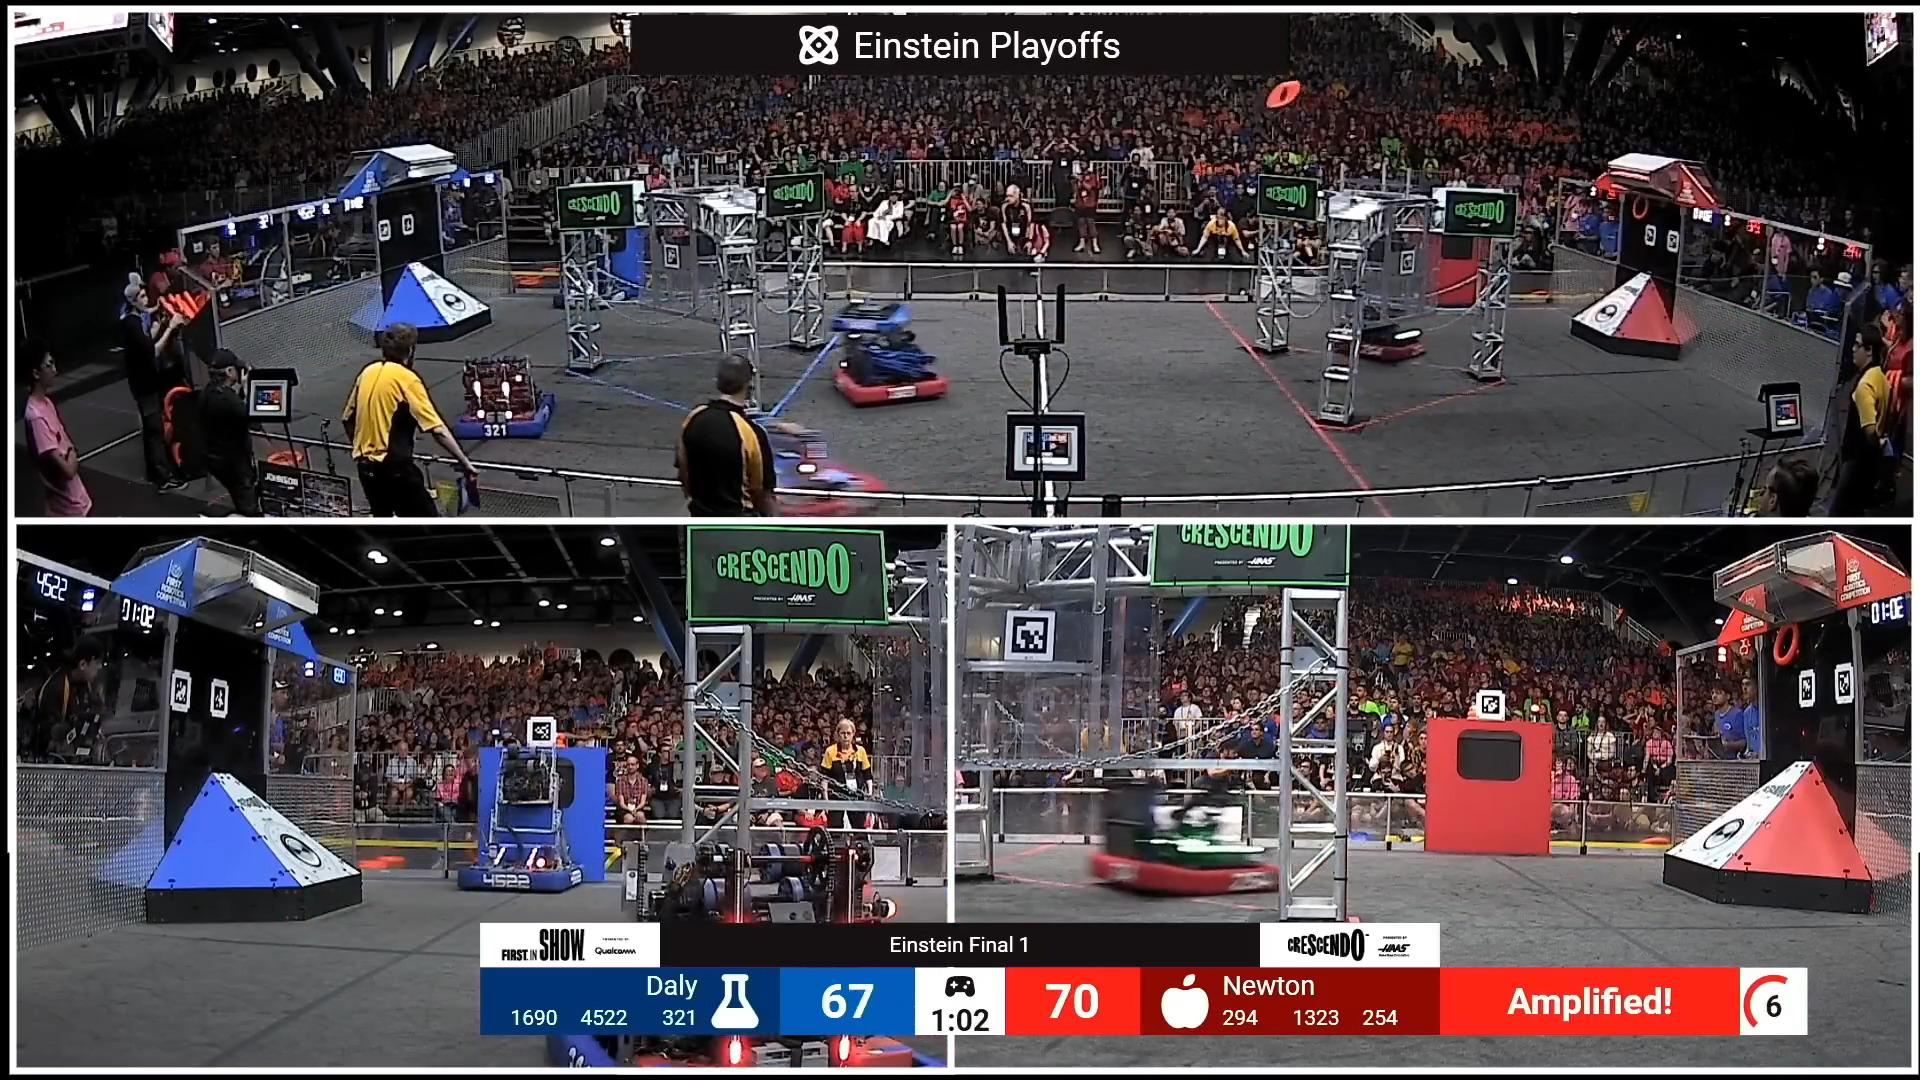blue_amping: (464, 732, 597, 907)
blue_idle: (554, 818, 949, 1063), (438, 345, 568, 452)
note: (1756, 612, 1817, 675), (1619, 182, 1659, 225)
red_idle: (1076, 754, 1294, 898), (754, 407, 884, 517), (820, 322, 960, 418), (1340, 291, 1424, 364)
